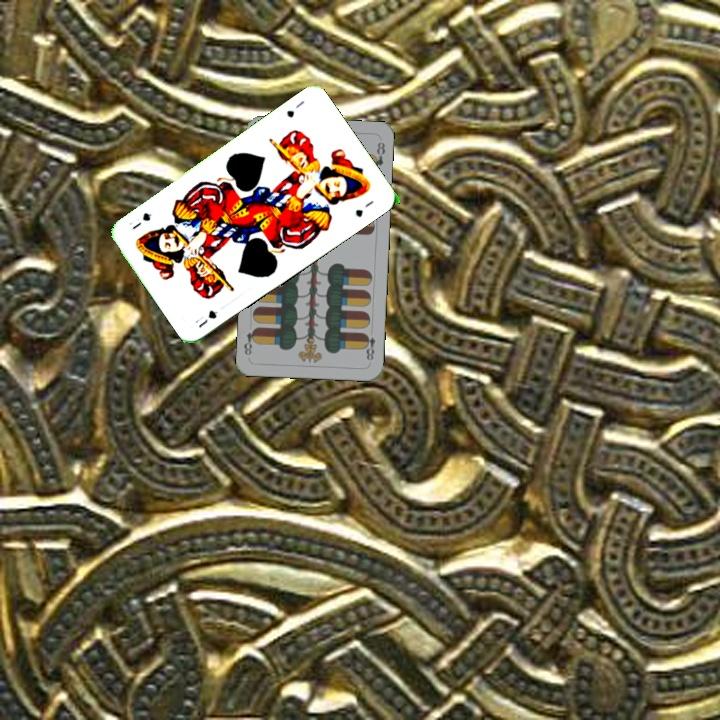E8: (360, 330, 378, 363)
GU: (194, 306, 220, 330), (282, 96, 307, 120)
